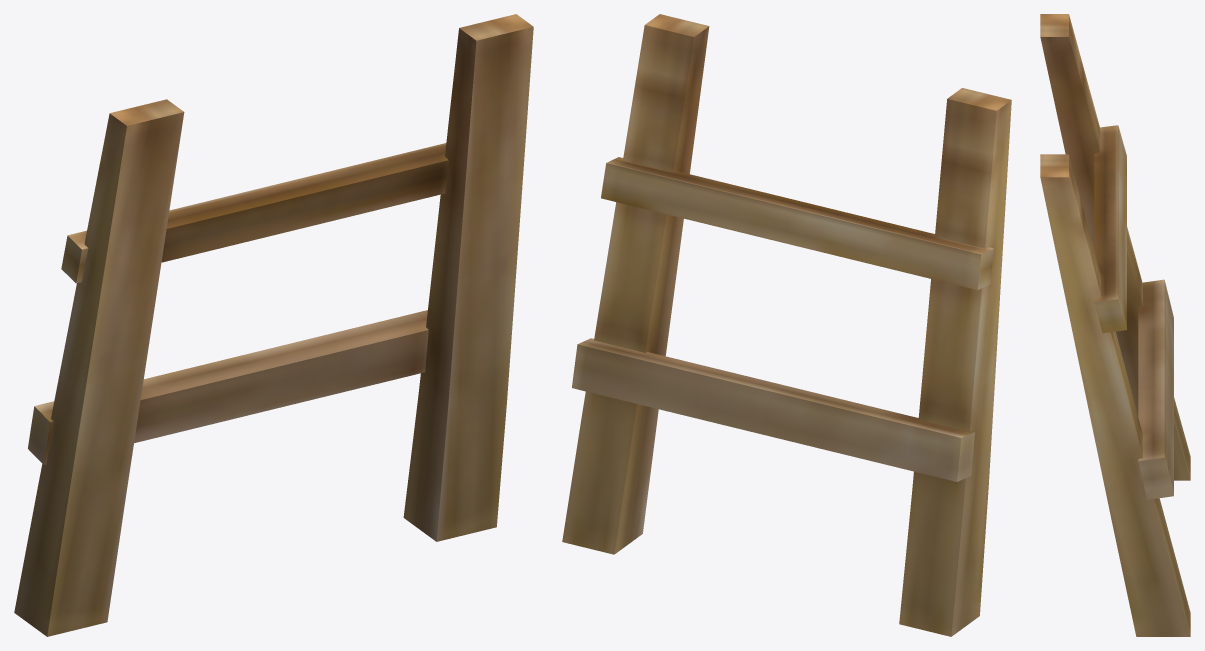
File: B5Broke04.FBX
3 renders of one model, left to right at view 1: azimuth 30°, elevation 25°; view 2: azimuth 150°, elevation 25°; view 3: azimuth 270°, elevation 25°, orthographic. The views are drawn at different scales.
Parts seen in each view (by area): view 1: B5Broke04; view 2: B5Broke04; view 3: B5Broke04.
Part boxes in pixels (x1,y1,x2,y2): B5Broke04: (14,14,533,636); B5Broke04: (562,14,1011,636); B5Broke04: (1040,14,1190,636).
Size of the model in its own units: 30.8 by 35.9 by 10.84.
